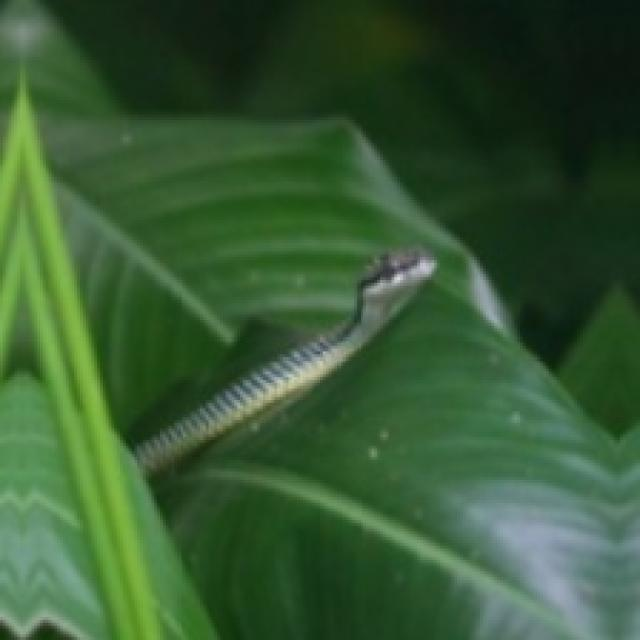paradise tree snake: (134, 249, 434, 471)
